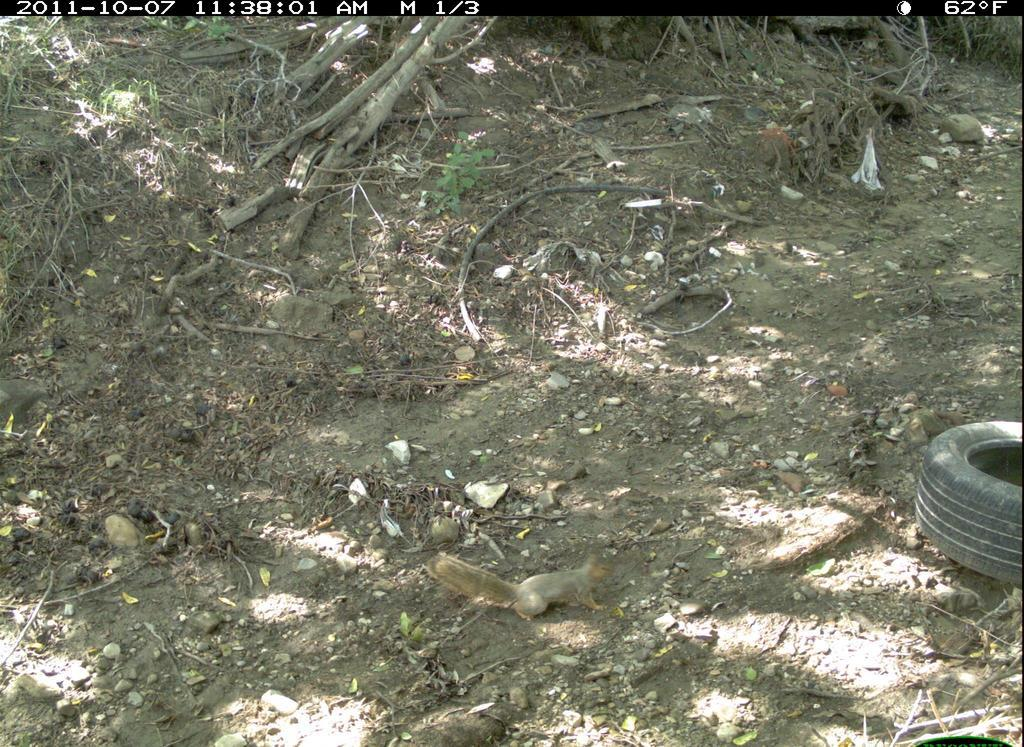squirrel: (428, 546, 619, 625)
